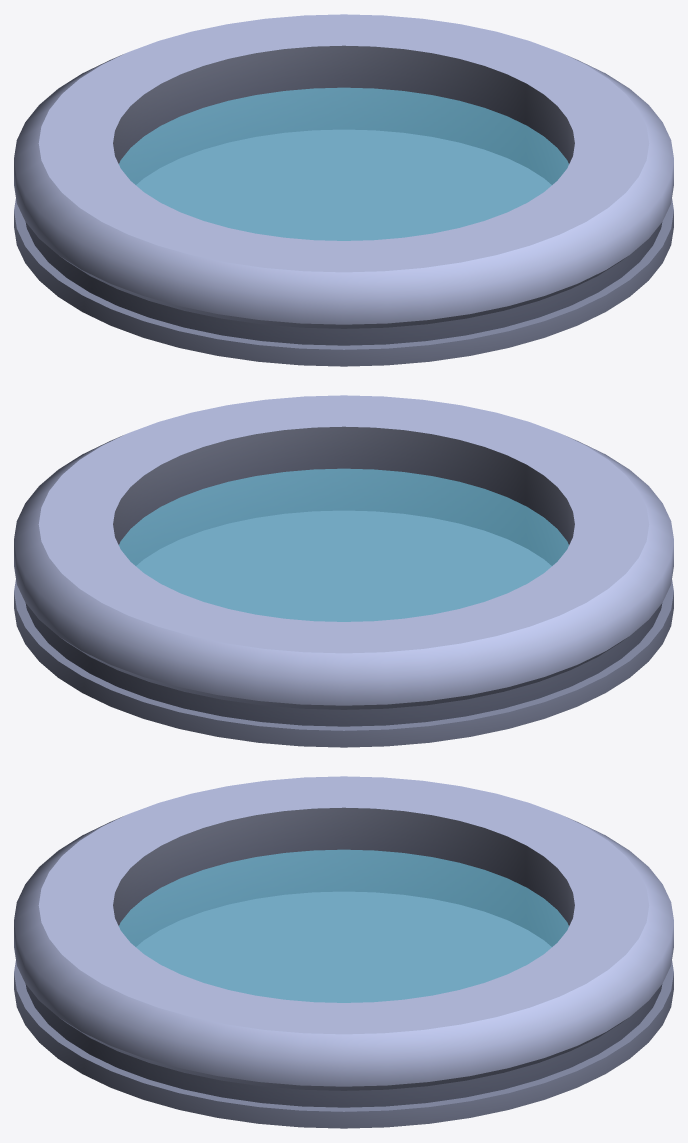
File: fountain_round.glb
3 renders of one model, top to bottom at view 1: azimuth 30°, elevation 25°; view 2: azimuth 150°, elevation 25°; view 3: azimuth 270°, elevation 25°, orthographic.
Visible parts, largest first — view 1: fountain-round, (%ignore); view 2: fountain-round, (%ignore); view 3: fountain-round, (%ignore).
Part boxes in pixels (x1=…): fountain-round: x1=14, y1=14, x2=673, y2=366; (%ignore): x1=119, y1=87, x2=568, y2=240; fountain-round: x1=14, y1=395, x2=673, y2=747; (%ignore): x1=119, y1=468, x2=568, y2=621; fountain-round: x1=14, y1=776, x2=673, y2=1128; (%ignore): x1=119, y1=849, x2=568, y2=1002.
Bounding box in the file's own units: 2 × 0.28 × 2.
2 materials, 1 textured.
